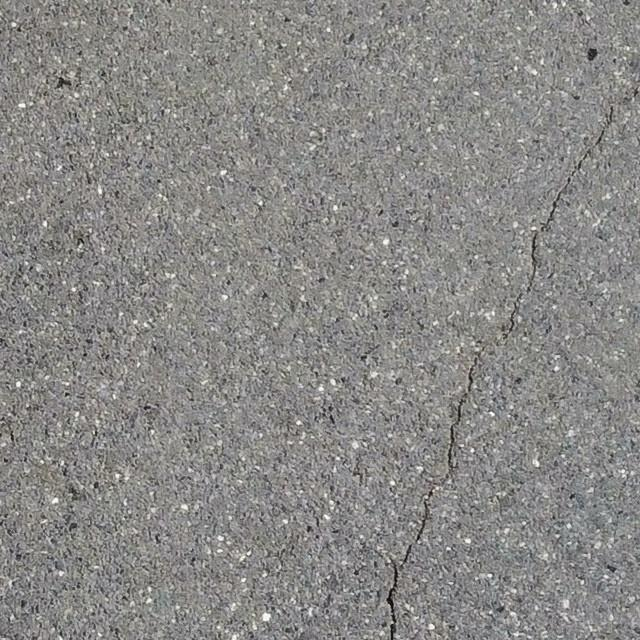LongitudinalCrack: (387, 106, 614, 639)
